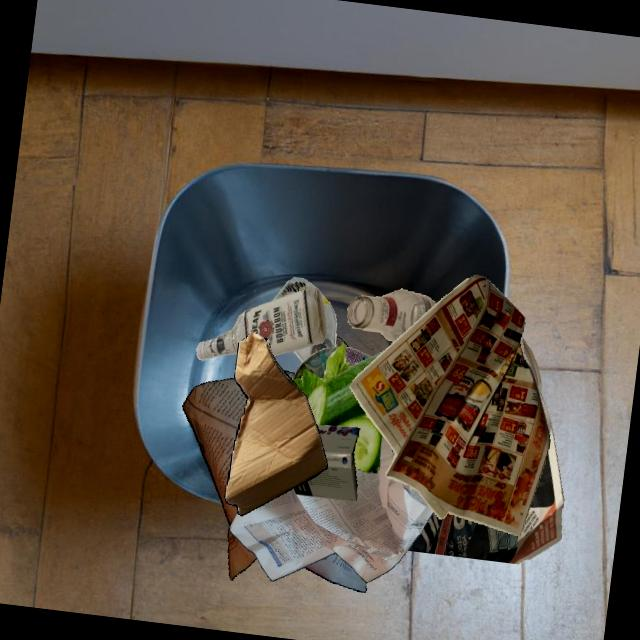biowaste: (290, 342, 384, 473)
cardboard: (224, 331, 327, 516), (323, 357, 371, 471), (292, 425, 359, 501), (292, 346, 339, 379)
glass: (196, 287, 326, 360), (347, 288, 435, 341), (292, 291, 336, 362), (272, 276, 317, 300), (335, 336, 348, 347)
paper: (349, 274, 549, 536), (229, 435, 433, 582), (407, 385, 563, 564), (230, 378, 335, 560), (188, 421, 256, 580), (182, 377, 246, 421)
plastic: (521, 336, 542, 398)
